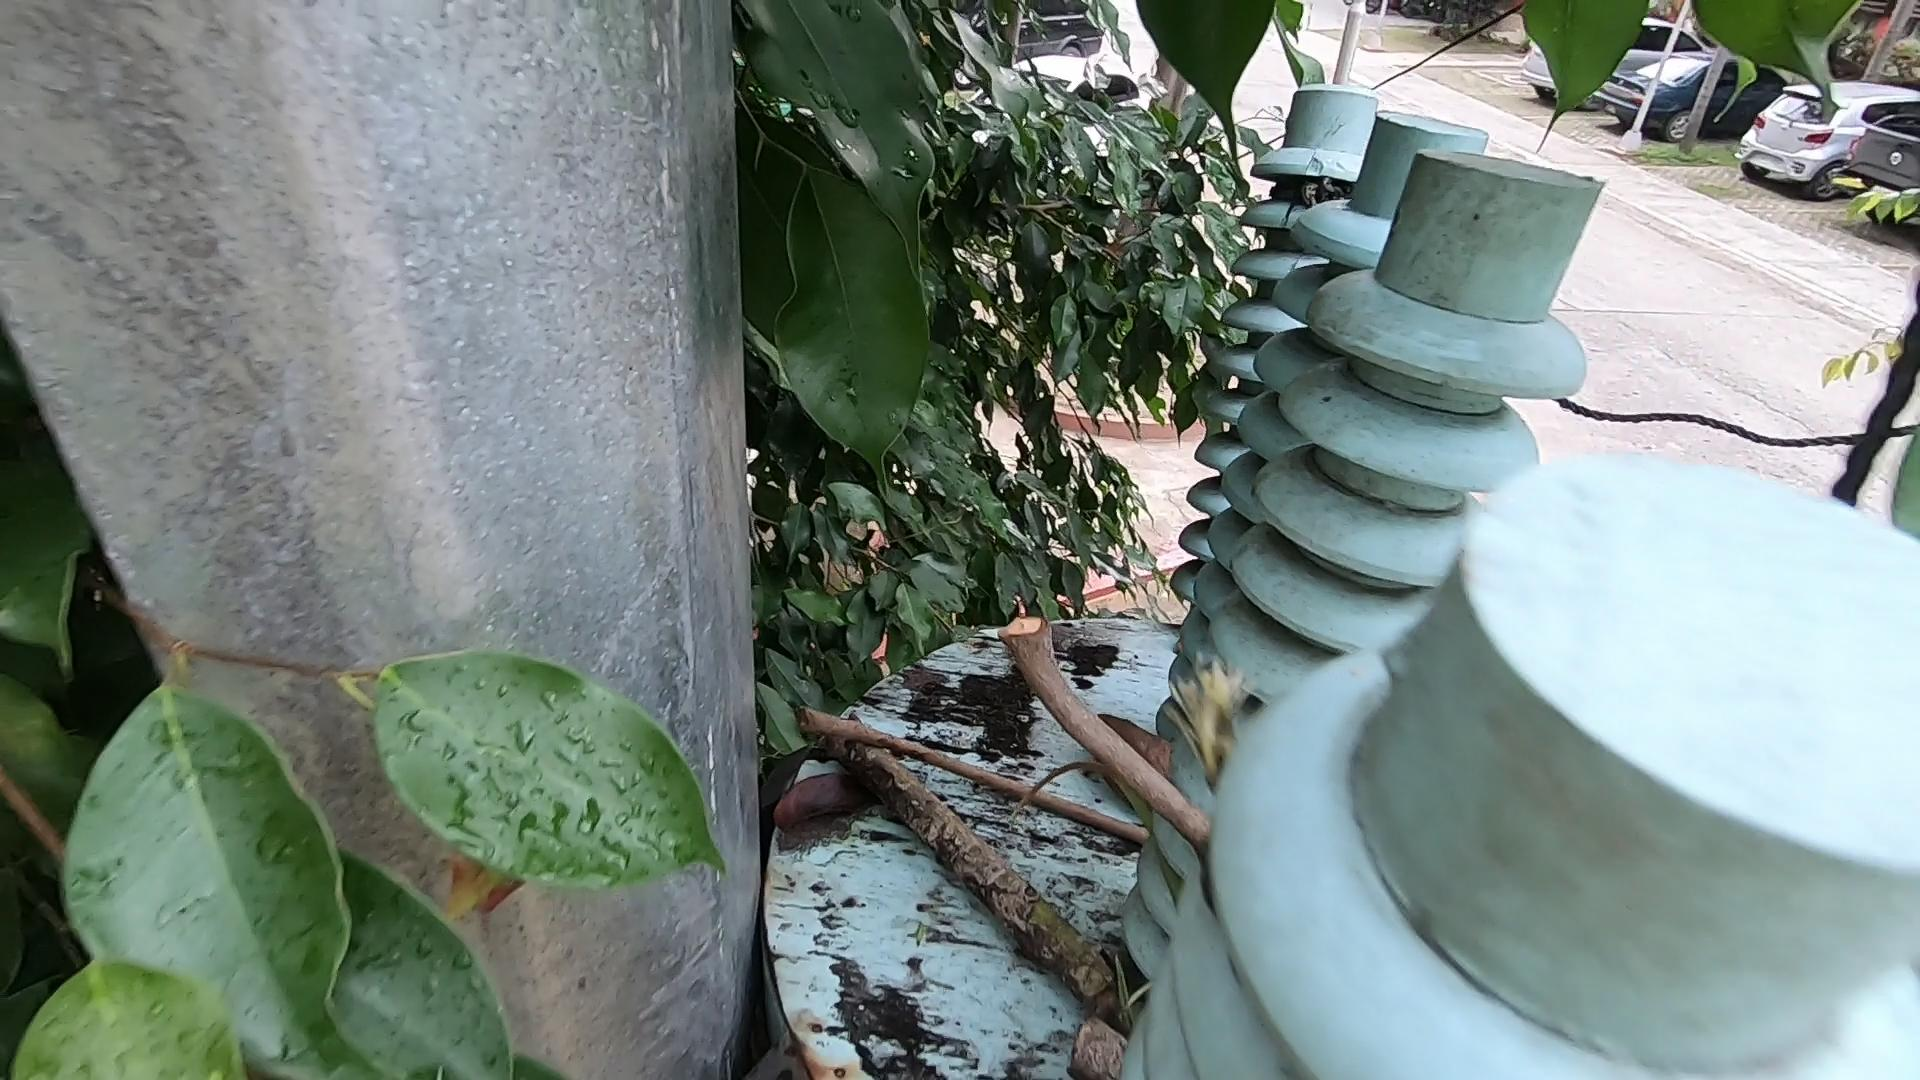branch with leaves: (814, 686, 1164, 1051)
leaf: (760, 764, 928, 861)
mahogany fruit: (1060, 684, 1226, 829)
tree branch: (972, 596, 1278, 928), (806, 686, 1187, 819)
